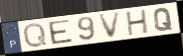9: (77, 16, 97, 42)
E: (47, 18, 75, 46)
H: (126, 8, 150, 37)
Q: (22, 21, 49, 49), (152, 7, 174, 32)
V: (97, 10, 123, 40)
